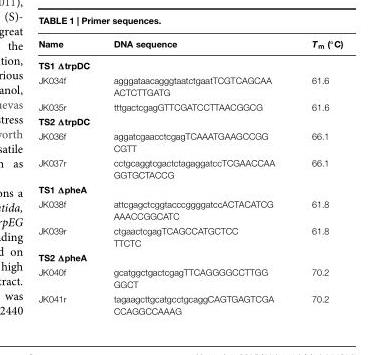table: (37, 37, 342, 315)
table column: (89, 37, 292, 315), (37, 37, 89, 315), (292, 37, 342, 315)
table column header: (37, 37, 342, 54)
table projected row header: (37, 54, 342, 72), (37, 113, 342, 128), (37, 181, 342, 196), (37, 249, 342, 264)
table row: (37, 72, 342, 99), (37, 154, 342, 181), (37, 222, 342, 249), (37, 128, 342, 154), (37, 196, 342, 222), (37, 264, 342, 290), (37, 290, 342, 315), (37, 54, 342, 72), (37, 37, 342, 54), (37, 113, 342, 128), (37, 181, 342, 196), (37, 249, 342, 264), (37, 99, 342, 113)
